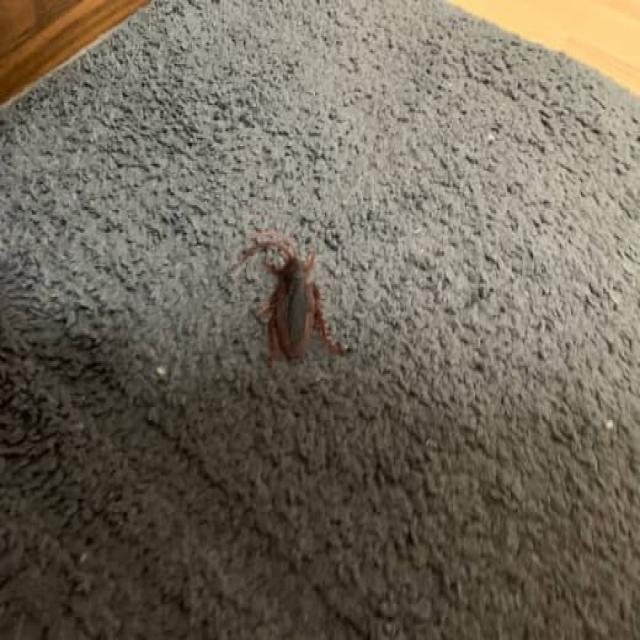Cockroach: (229, 228, 343, 361)
